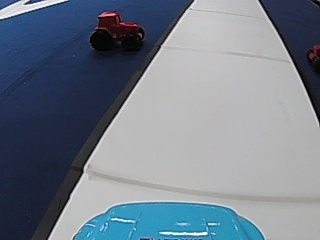tractor: (89, 8, 147, 52), (306, 44, 320, 70)
